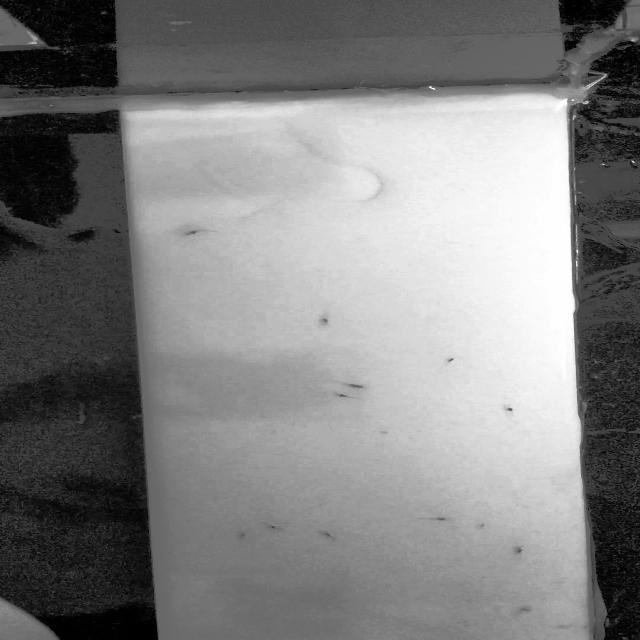shrimp: (305, 311, 348, 333), (420, 513, 462, 530), (338, 376, 368, 394), (321, 391, 365, 402), (311, 532, 351, 544), (492, 402, 523, 417), (176, 227, 206, 240), (438, 354, 461, 370), (507, 545, 533, 558), (262, 518, 284, 533), (229, 530, 253, 542)
